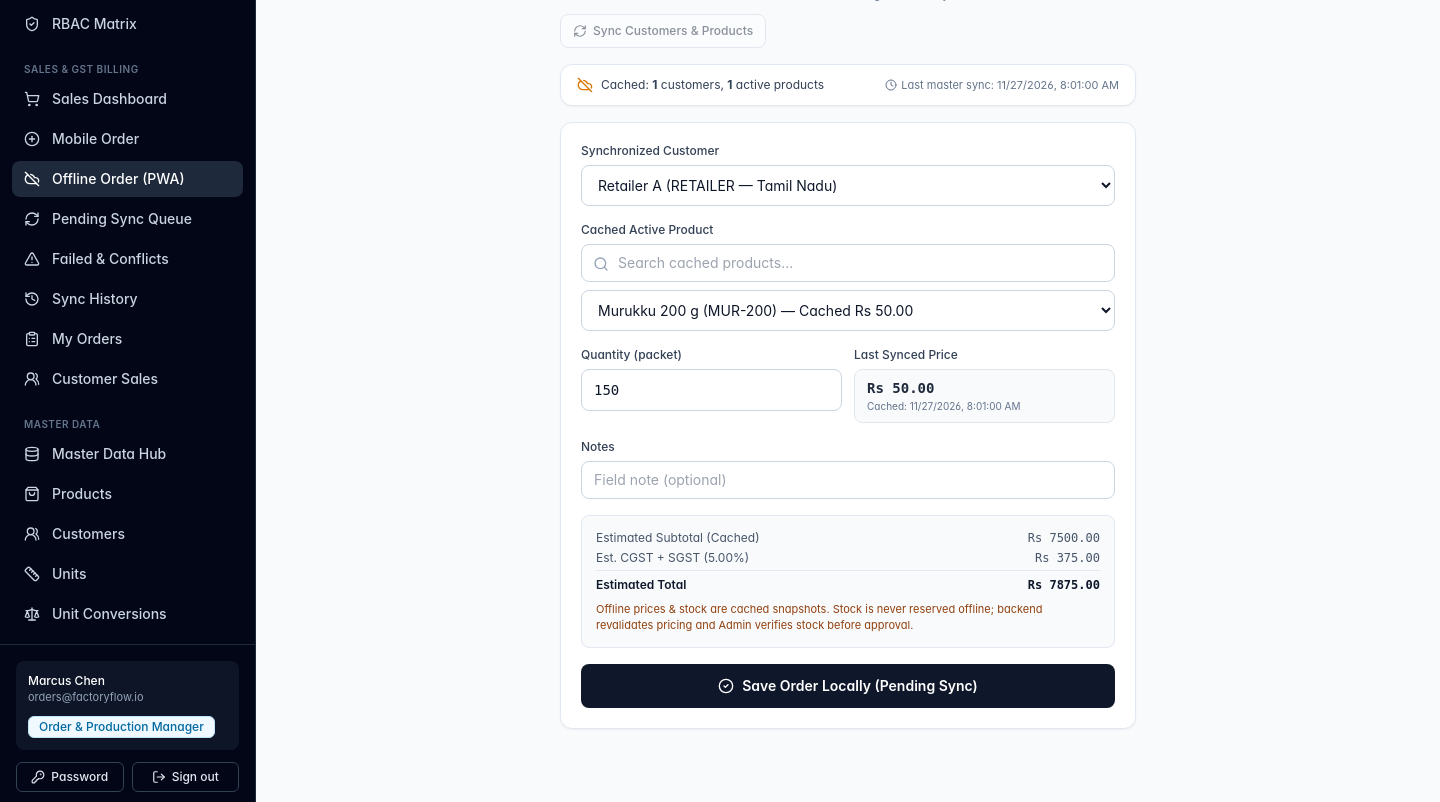
Test: Phase 8 Offline PWA & Automatic Order Synchronization › loads offline PWA shell when disconnected, stores multiple orders in IndexedDB, and clears caches on logout
Later steps or results of the test are not shown.
(page scrolled)
Click the button "Save Order Locally (Pending Sync)".
click(848, 686)  # box [581,664,1115,708]
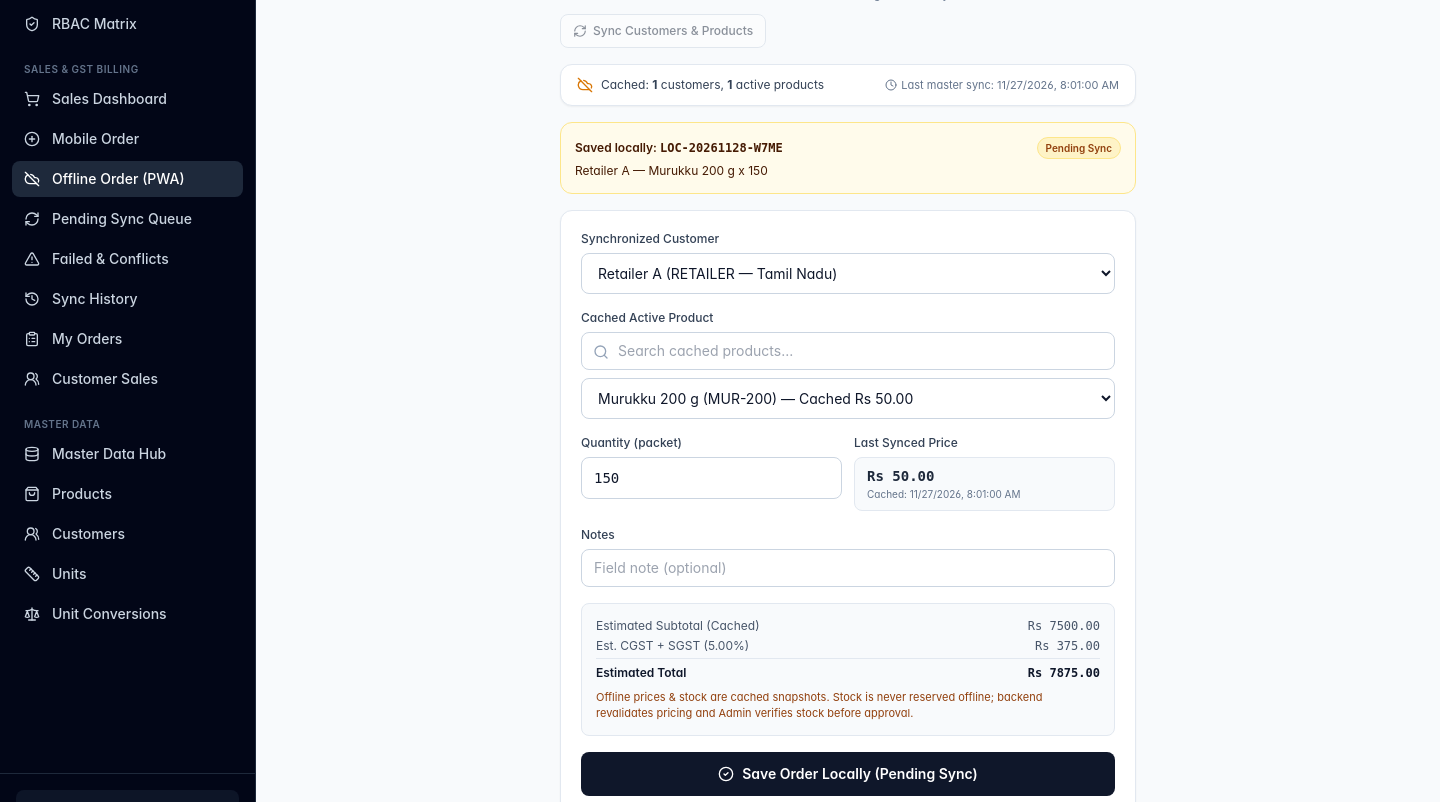
Expected: the text "Saved locally: LOC-20261128-W7ME" is shown, [575,140,783,156]
